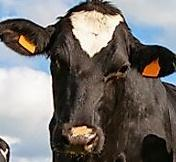muzzles: (51, 123, 107, 158)
